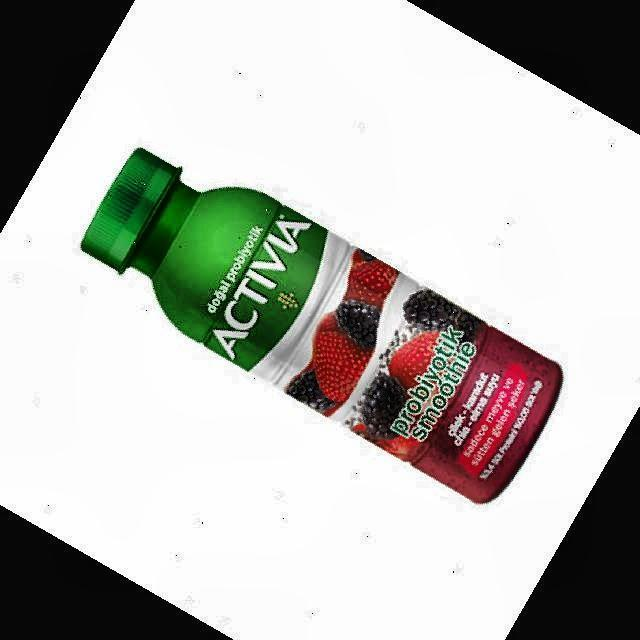plastic: (82, 149, 562, 502)
